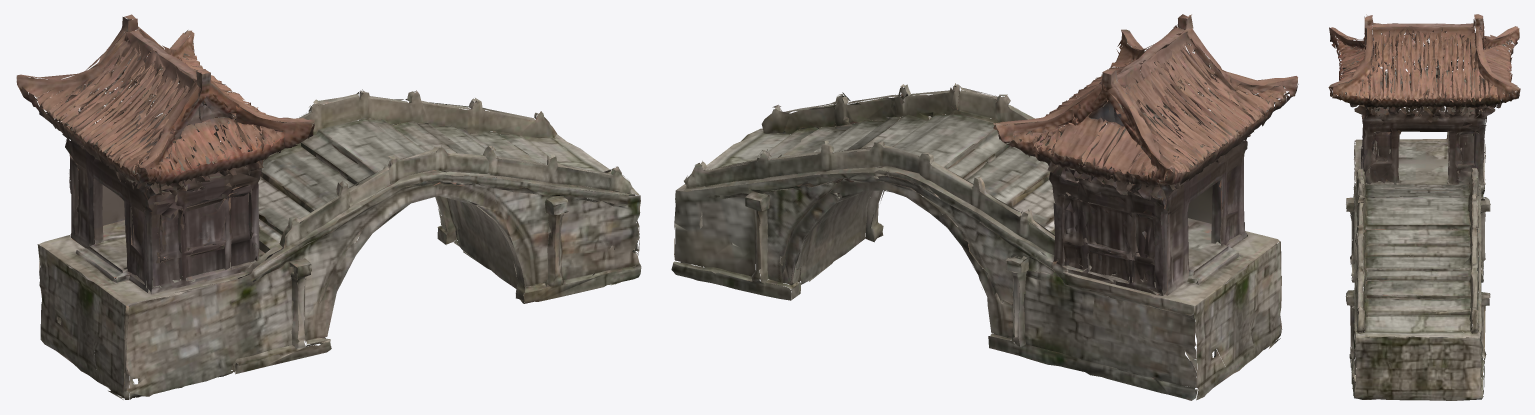
The model's file is bridge.glb.
3 views of the same model, side by side, from view 1: azimuth 30°, elevation 25°; view 2: azimuth 150°, elevation 25°; view 3: azimuth 270°, elevation 25° (orthographic). The views are drawn at different scales.
Visible parts, largest first — view 1: geometry_0; view 2: geometry_0; view 3: geometry_0.
Boxes of the visible parts, x1,y1,x2,y2 form: geometry_0: (16,14,641,399); geometry_0: (671,14,1298,400); geometry_0: (1328,14,1520,400).
Size of the model in its own units: 4.5 by 2.54 by 1.93.
Materials: 1 (1 with a texture image).
